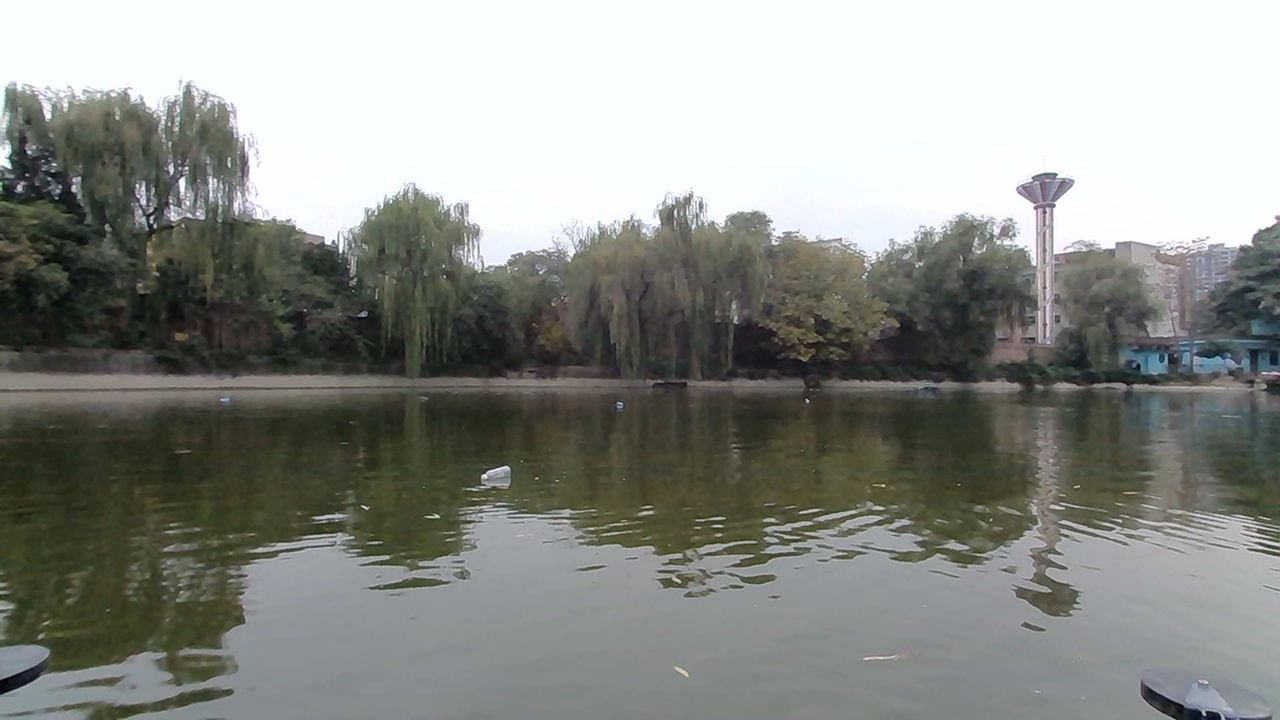bottle: (471, 462, 530, 491), (608, 398, 639, 416)
